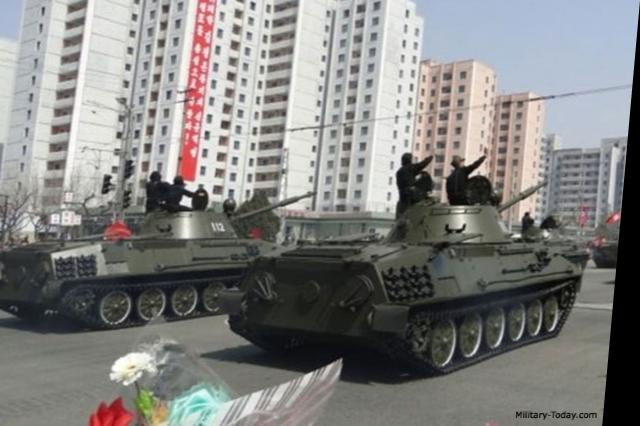other: (440, 131, 512, 211), (385, 140, 444, 222), (127, 155, 195, 213)
tank: (224, 176, 601, 381), (0, 177, 307, 328)
